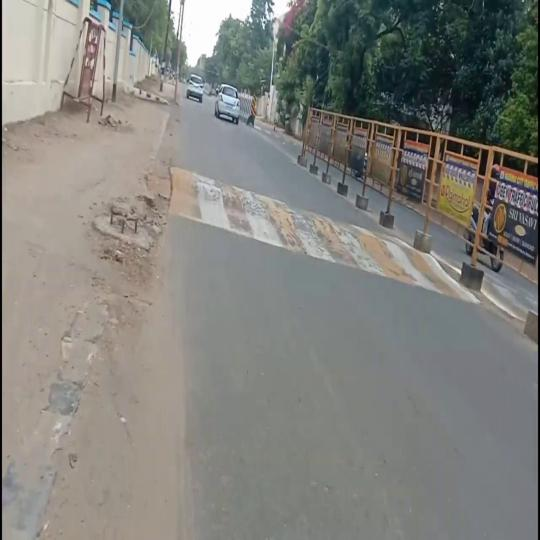Speed Bump: (168, 167, 310, 255), (309, 210, 379, 275), (414, 249, 460, 293), (485, 277, 526, 320), (381, 239, 413, 287)
